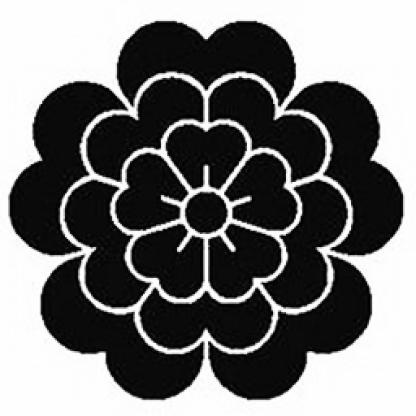kamon: (9, 18, 402, 398)
